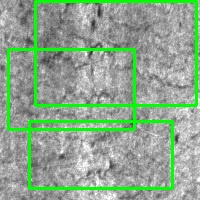crazing: (36, 1, 196, 105), (8, 49, 134, 129), (29, 121, 172, 188)
